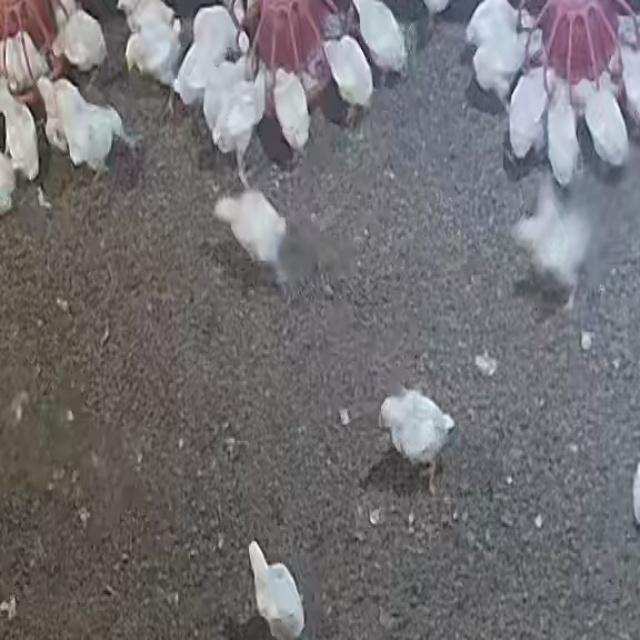chicken: (521, 191, 585, 298), (57, 82, 121, 176), (246, 542, 307, 640), (218, 193, 283, 278), (382, 390, 446, 472), (214, 70, 268, 163), (350, 0, 406, 75), (507, 67, 549, 160), (585, 83, 629, 171), (323, 36, 373, 112), (476, 37, 541, 95), (545, 85, 580, 187), (5, 90, 40, 183), (201, 57, 247, 124), (127, 29, 178, 87), (56, 14, 109, 69), (466, 0, 541, 38), (196, 10, 250, 56), (275, 70, 304, 154), (0, 35, 50, 82), (179, 48, 212, 106), (121, 0, 176, 30)
